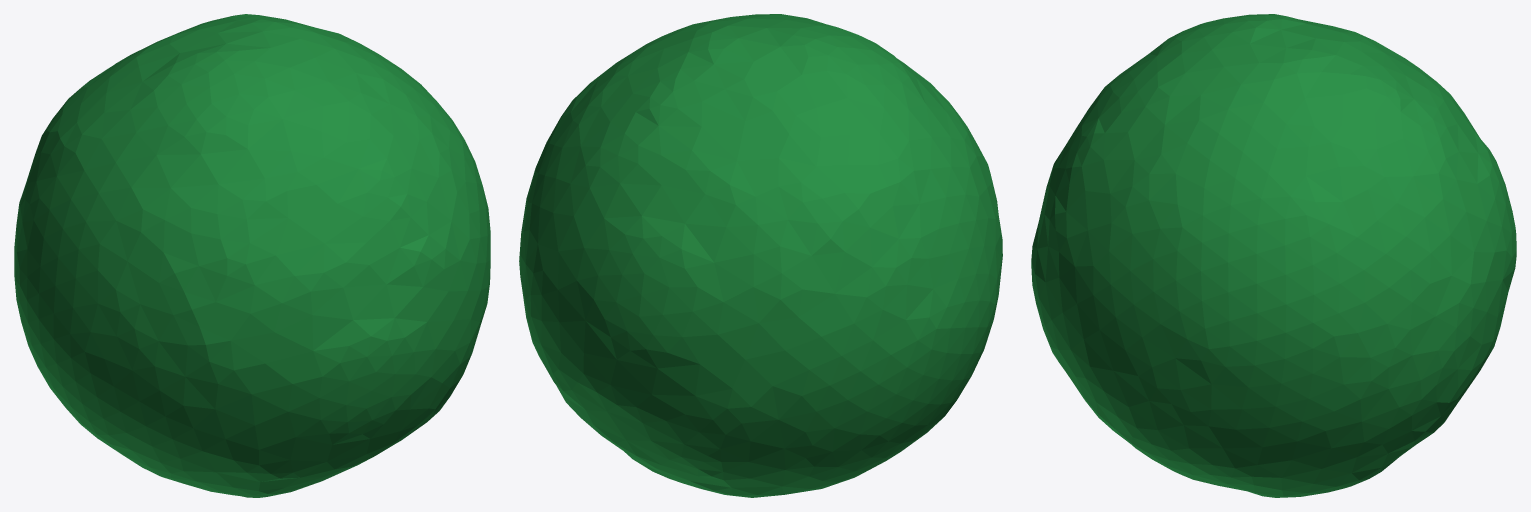
Rendered from ANEURYSM_MASK_001.glb.
The picture shows the model from 3 angles, left to right: view 1: azimuth 30°, elevation 25°; view 2: azimuth 150°, elevation 25°; view 3: azimuth 270°, elevation 25°; orthographic projection.
Parts seen in each view (by area): view 1: node_id4; view 2: node_id4; view 3: node_id4.
Part boxes in pixels (left/top/right/bottom): node_id4: left=14, top=14, right=490, bottom=497; node_id4: left=519, top=14, right=1002, bottom=497; node_id4: left=1031, top=14, right=1516, bottom=497.
Size of the model in its own units: 0.5057 by 0.5044 by 0.5114.
Materials: 1 (1 with a texture image).
